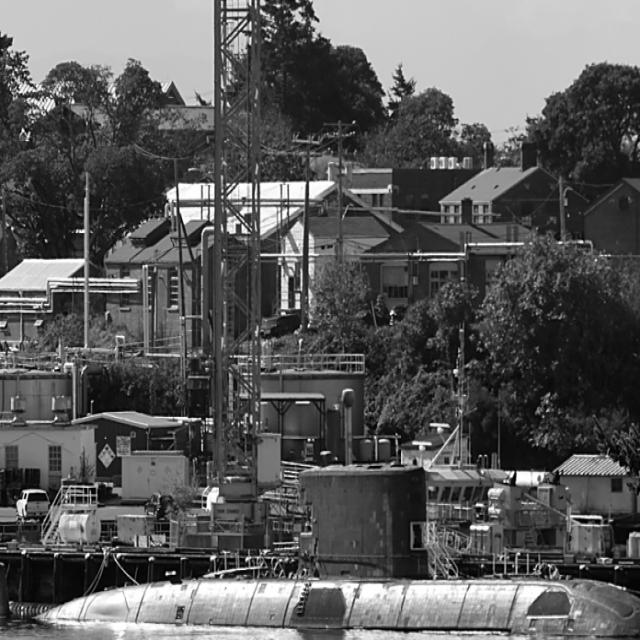submarine: (1, 462, 640, 640)
